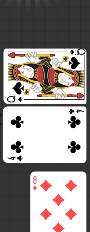4C: (67, 108, 84, 116)
8D: (31, 175, 38, 192)
